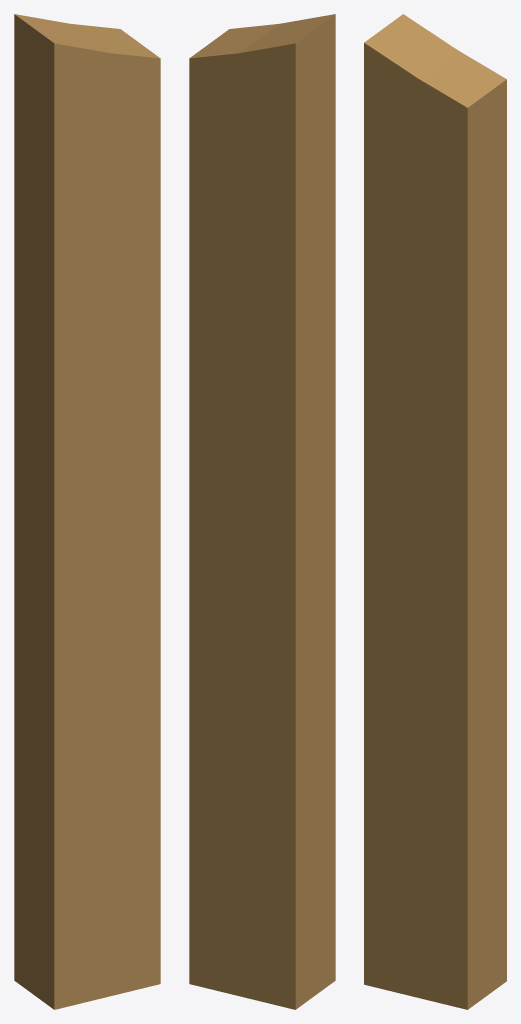
The picture shows the model from 3 angles, left to right: view 1: azimuth 30°, elevation 25°; view 2: azimuth 150°, elevation 25°; view 3: azimuth 330°, elevation 25°; orthographic projection. The views are drawn at different scales.
Parts seen in each view (by area): view 1: L4-6-S4-3E5-M07; view 2: L4-6-S4-3E5-M07; view 3: L4-6-S4-3E5-M07.
Part boxes in pixels (box(x1,y1,x2,y2)): L4-6-S4-3E5-M07: box(14, 14, 160, 1009); L4-6-S4-3E5-M07: box(189, 14, 335, 1009); L4-6-S4-3E5-M07: box(364, 14, 506, 1009).
Size of the model in its own units: 0.0687 by 0.5969 by 0.045.
